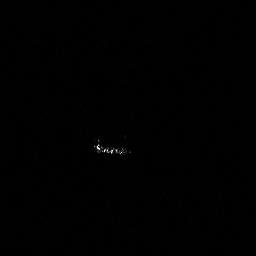ship: (91, 138, 132, 157)
